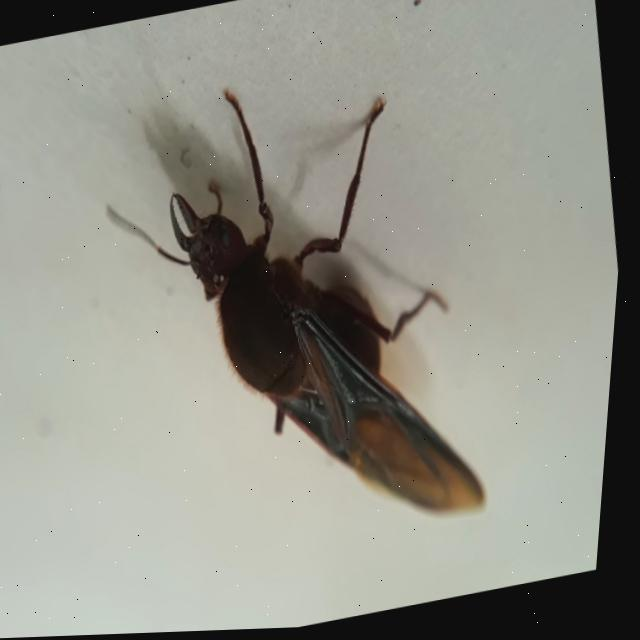Alive-Female-Alate: (74, 47, 520, 578)
